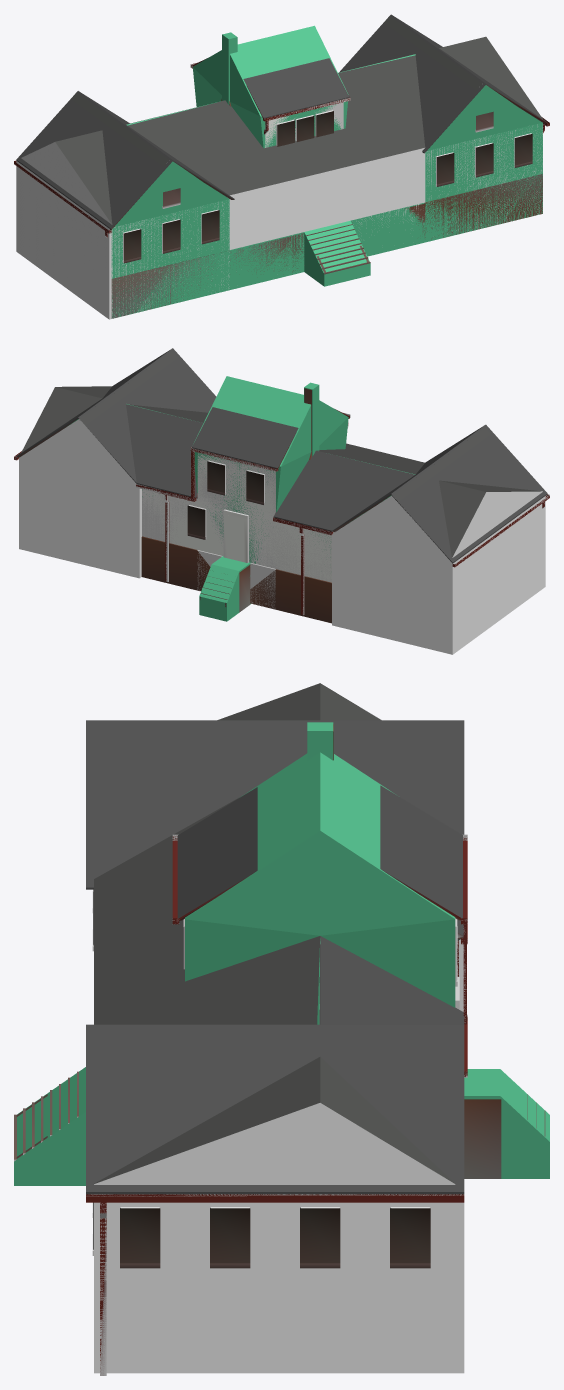
Rendered from eca_bld_house_02_a.dae.
3 renders of one model, top to bottom at view 1: azimuth 30°, elevation 25°; view 2: azimuth 150°, elevation 25°; view 3: azimuth 270°, elevation 25°, orthographic. The views are drawn at different scales.
Visible parts, largest first — view 1: ind_bld_a60, Colmesh-1, ind_bld_a100, ind_bld_a400; view 2: ind_bld_a60, ind_bld_a100, Colmesh-1, ind_bld_a400; view 3: ind_bld_a100, ind_bld_a60, Colmesh-1, ind_bld_a400.
Part boxes in pixels (x1=…): ind_bld_a60: x1=16, y1=16, x2=542, y2=319; Colmesh-1: x1=111, y1=25, x2=542, y2=318; ind_bld_a100: x1=14, y1=14, x2=549, y2=318; ind_bld_a400: x1=15, y1=63, x2=549, y2=273; ind_bld_a60: x1=19, y1=351, x2=545, y2=654; ind_bld_a100: x1=14, y1=348, x2=549, y2=623; Colmesh-1: x1=67, y1=376, x2=415, y2=621; ind_bld_a400: x1=14, y1=413, x2=549, y2=614; ind_bld_a100: x1=14, y1=720, x2=545, y2=1375; ind_bld_a60: x1=94, y1=683, x2=464, y2=1373; Colmesh-1: x1=14, y1=722, x2=549, y2=1185; ind_bld_a400: x1=14, y1=834, x2=467, y2=1375.
Size of the model in its own units: 22.55 by 11.9 by 9.77.
